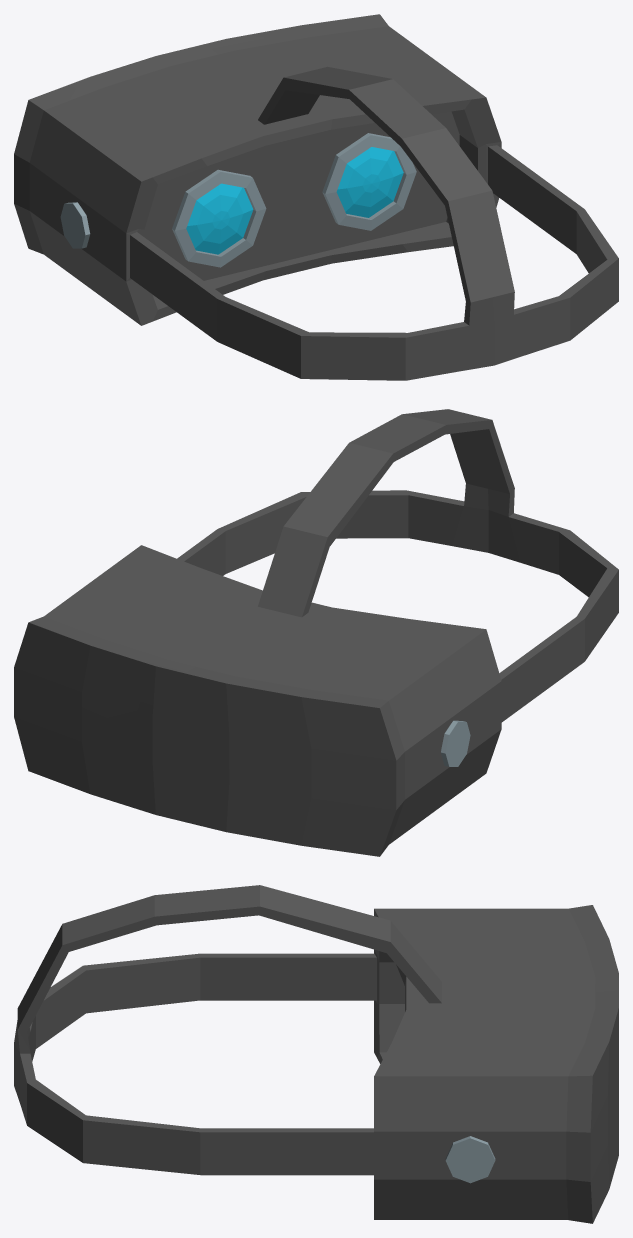
Rendered from headset-anim.gltf.
The picture shows the model from 3 angles, top to bottom: view 1: azimuth 30°, elevation 25°; view 2: azimuth 150°, elevation 25°; view 3: azimuth 270°, elevation 25°; orthographic projection.
Visible parts, largest first — view 1: High-end_headset_01_Cube.027; view 2: High-end_headset_01_Cube.027; view 3: High-end_headset_01_Cube.027.
Part boxes in pixels (box(x1,y1,x2,y2)): High-end_headset_01_Cube.027: box(14, 14, 618, 380); High-end_headset_01_Cube.027: box(14, 409, 618, 856); High-end_headset_01_Cube.027: box(14, 885, 618, 1223).
Size of the model in its own units: 0.2453 by 0.1482 by 0.3349.
